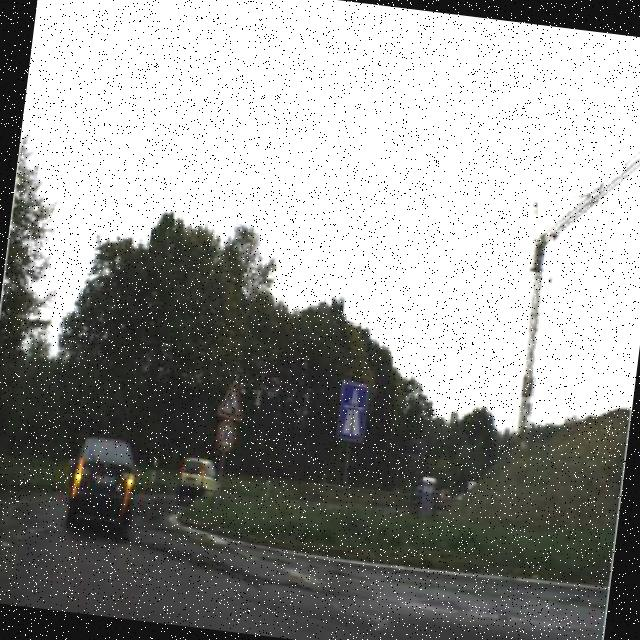Ograniczenie predkosci do 30: (213, 418, 239, 456)
